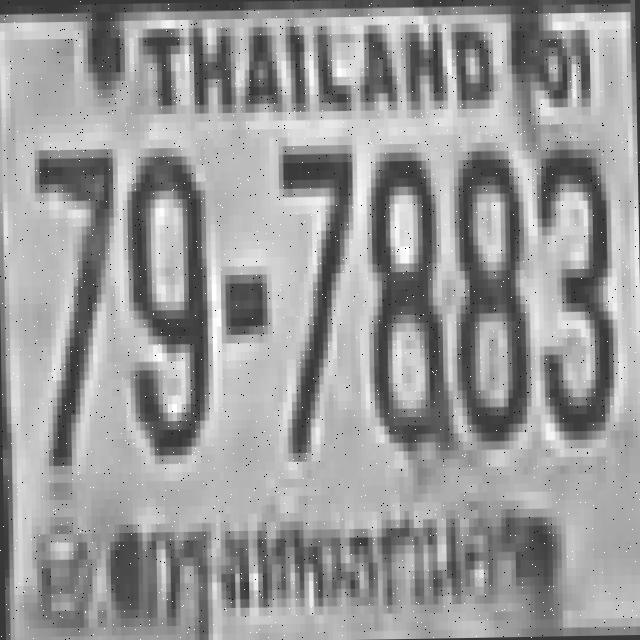3: (531, 140, 610, 431)
7: (29, 140, 113, 458), (276, 136, 354, 453)
8: (365, 143, 444, 443), (450, 142, 524, 432)
9: (121, 138, 205, 446)
Bangkok: (130, 494, 533, 630)
